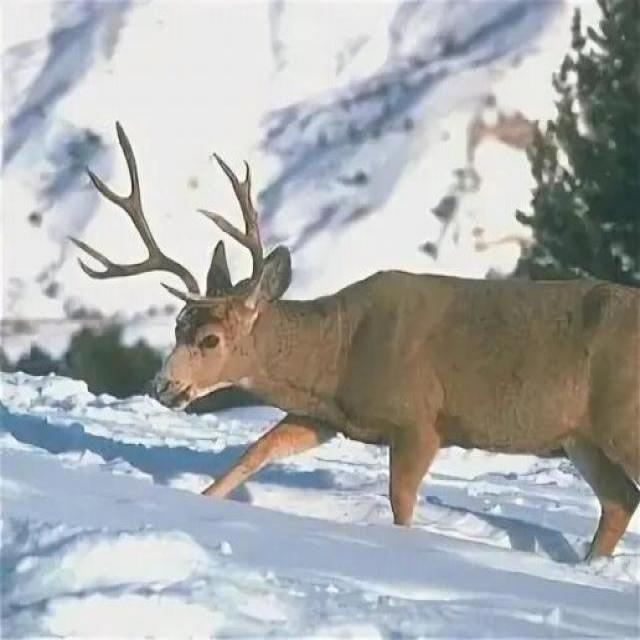deer: (115, 181, 640, 640)
